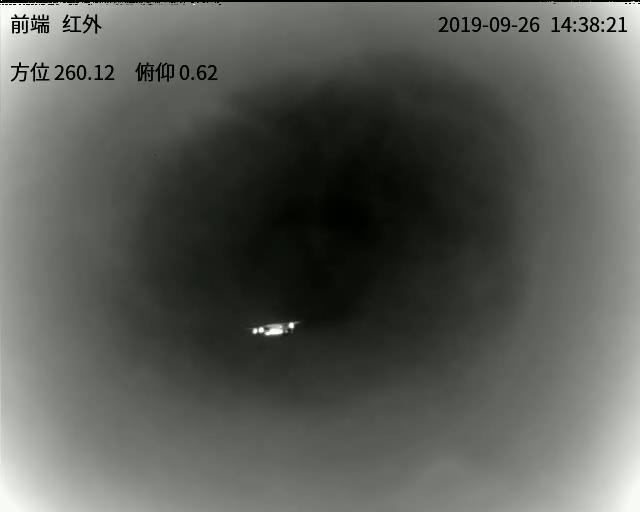uav: (248, 318, 304, 340)
